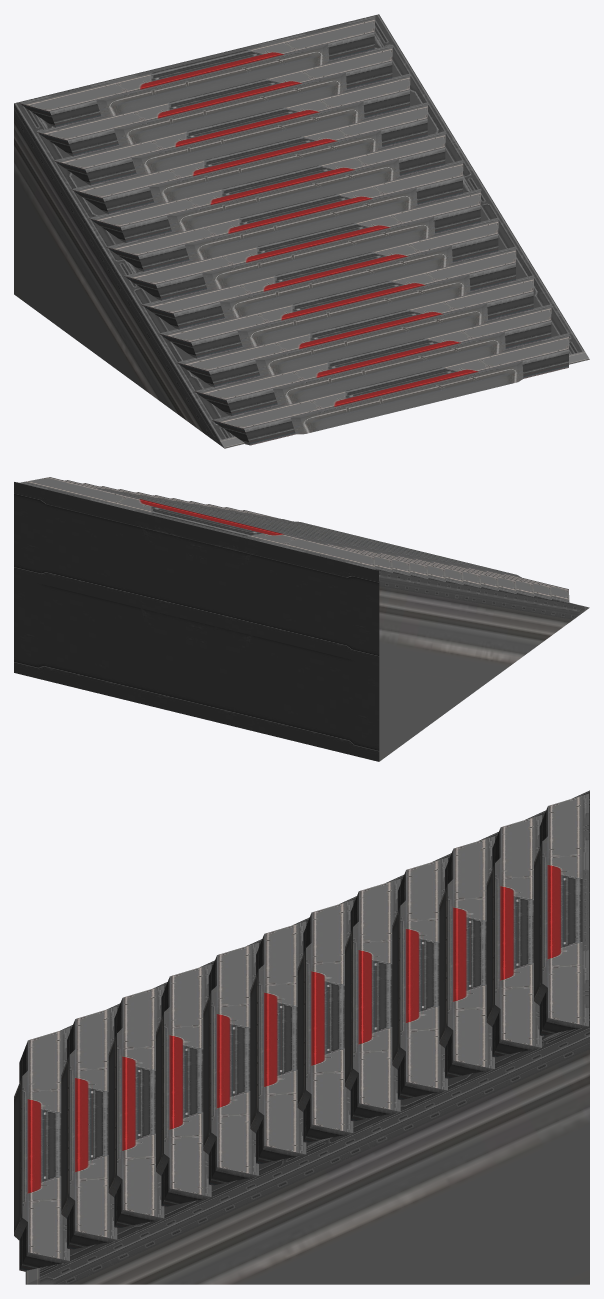
File: platform_stairs_4wide.gltf
3 views of the same model, one above another, from view 1: azimuth 30°, elevation 25°; view 2: azimuth 150°, elevation 25°; view 3: azimuth 270°, elevation 25° (orthographic). The views are drawn at different scales.
Parts seen in each view (by area): view 1: Platform_Stairs_4Wide; view 2: Platform_Stairs_4Wide; view 3: Platform_Stairs_4Wide.
Part boxes in pixels (box(x1,y1,x2,y2)): Platform_Stairs_4Wide: box(14, 14, 589, 448); Platform_Stairs_4Wide: box(14, 477, 589, 761); Platform_Stairs_4Wide: box(14, 790, 589, 1284).
Bounding box in the file's own units: 4 × 2.01 × 4.08.
2 materials, 2 textured.
